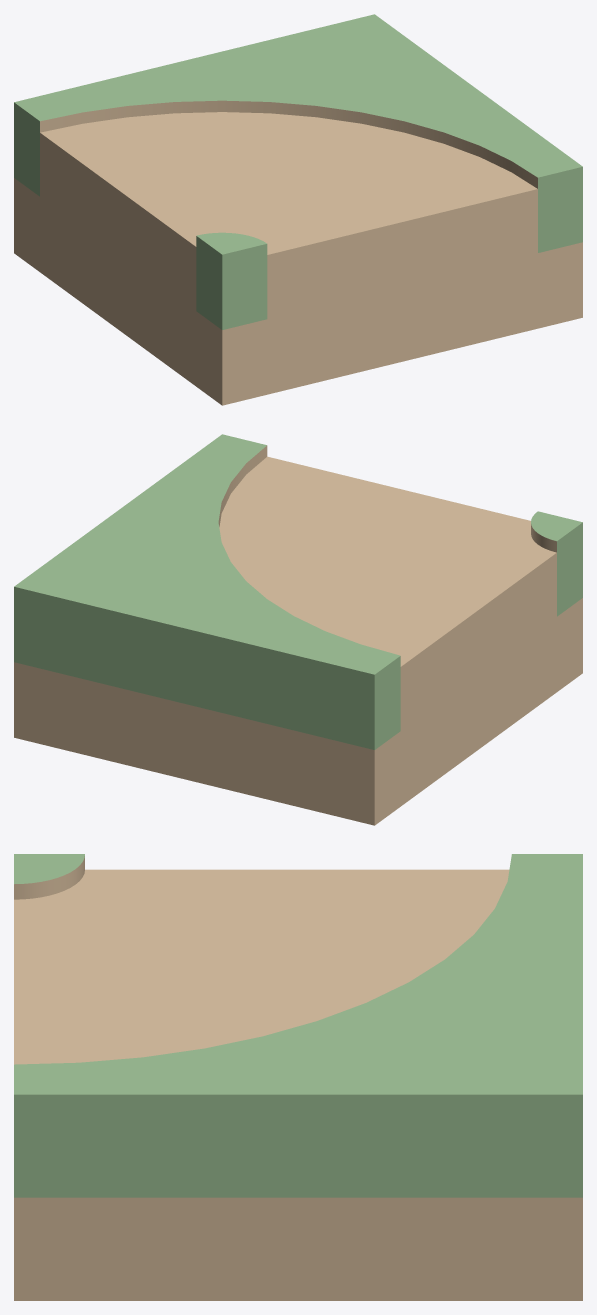
Rendered from tile_101.gltf.
3 views of the same model, one above another, from view 1: azimuth 30°, elevation 25°; view 2: azimuth 150°, elevation 25°; view 3: azimuth 270°, elevation 25° (orthographic). The views are drawn at different scales.
Visible parts, largest first — view 1: tile_101; view 2: tile_101; view 3: tile_101.
Boxes of the visible parts, box(x1,y1,x2,y2) form: tile_101: box(14, 14, 582, 405); tile_101: box(14, 434, 582, 825); tile_101: box(14, 854, 582, 1300).
Size of the model in its own units: 1 by 0.4 by 1.
